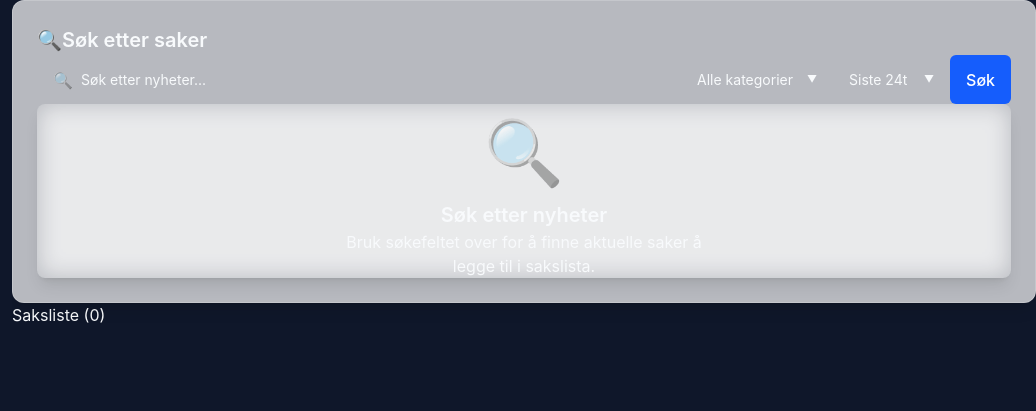
Test: Search to Saksliste Integration › add to saksliste flow › adds search result to saksliste
The width and height of the screenshot is (1036, 411).
# Search first
Type "test" into the field with placeholder "Søk etter nyheter..." at (359, 80), box [37,55,681,104]
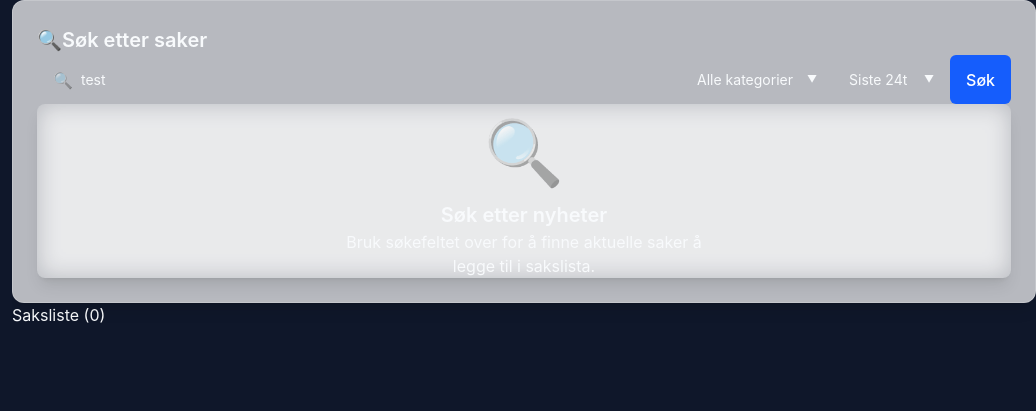
Click the button "Søk" at (980, 80), box [950,55,1011,104]
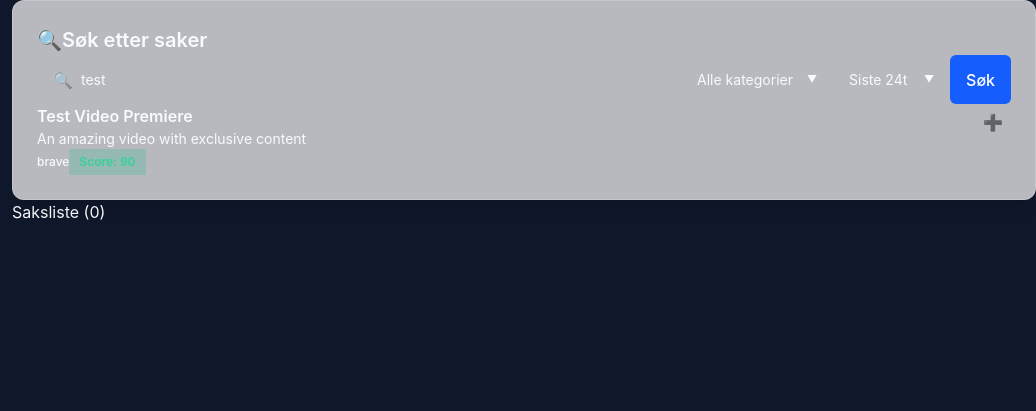
Check: the button named "Legg til Test Video Premiere" is shown
# Add first result to saksliste
Click the button named "Legg til Test Video Premiere" at (993, 122), box [975,104,1011,140]
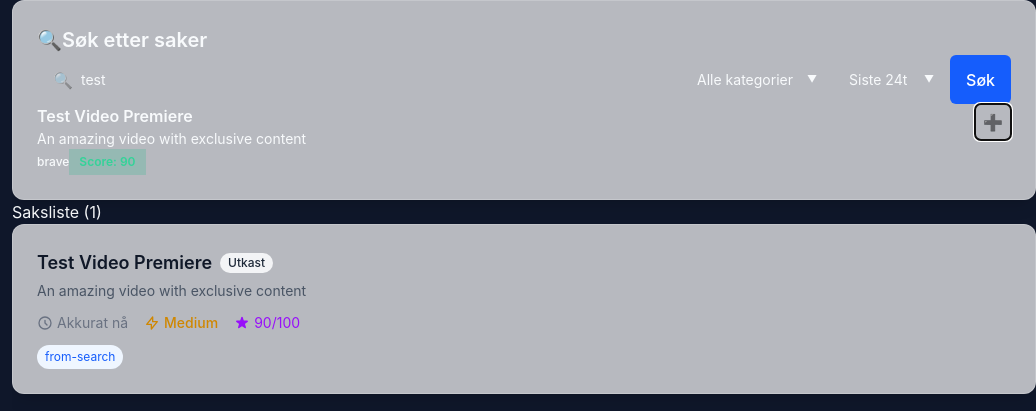
Check: the heading "Saksliste (1)" is shown, box [12,202,102,222]
